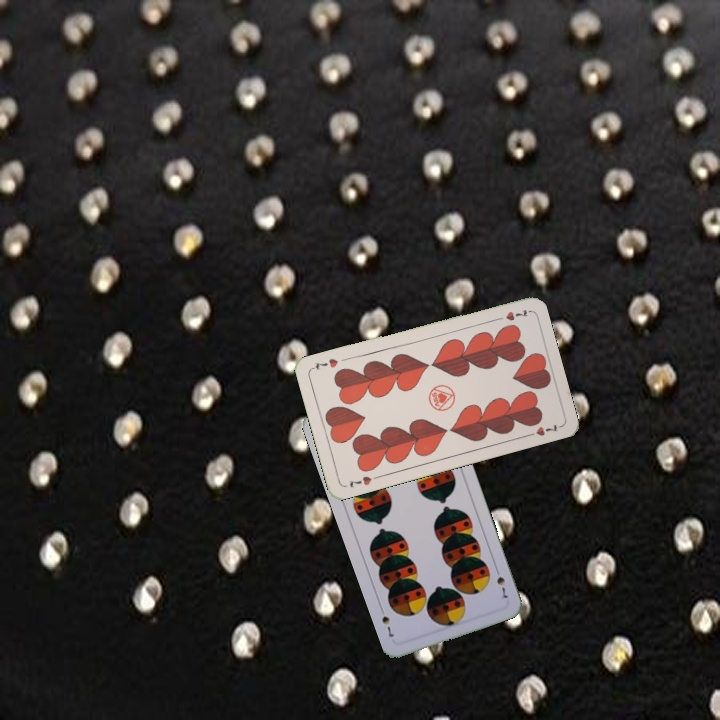H7: (491, 305, 531, 324), (345, 472, 382, 490)
S7: (491, 563, 510, 601)
